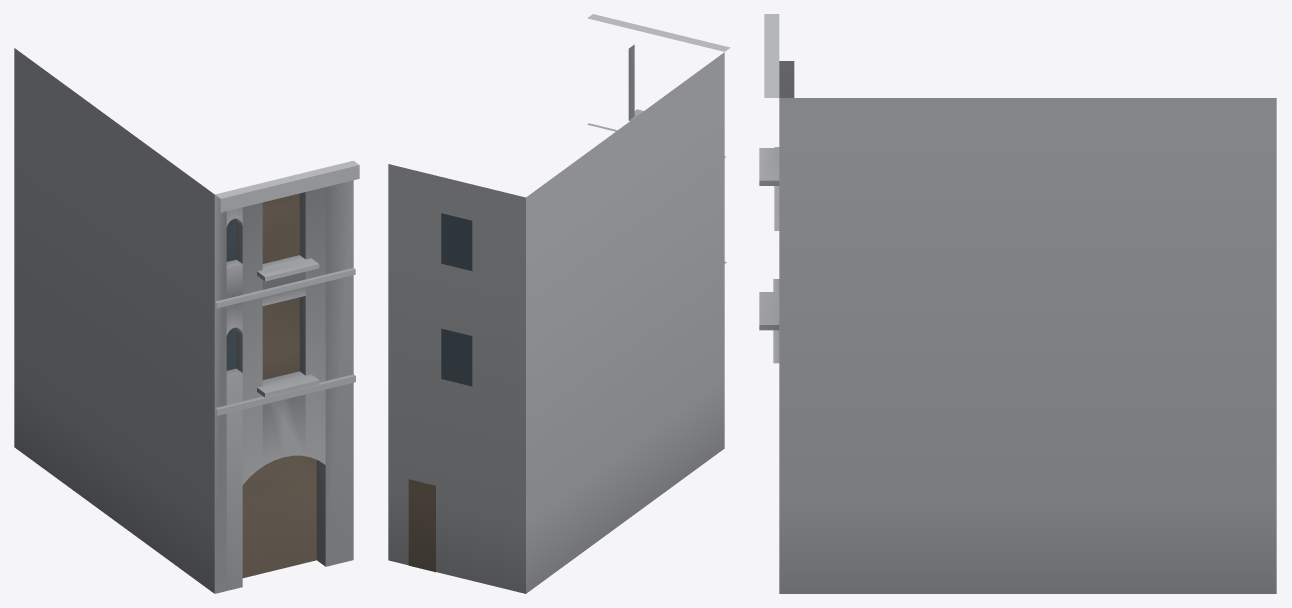
The model's file is sg_house_hoist.glb.
3 renders of one model, left to right at view 1: azimuth 30°, elevation 25°; view 2: azimuth 150°, elevation 25°; view 3: azimuth 270°, elevation 25°, orthographic. The views are drawn at different scales.
Visible parts, largest first — view 1: sg_house_hoist_SG_Stone, sg_house_hoist_SG_Joinery, sg_house_hoist_SG_Glass; view 2: sg_house_hoist_SG_Stone, sg_house_hoist_SG_Glass, sg_house_hoist_SG_Joinery; view 3: sg_house_hoist_SG_Stone.
Boxes of the visible parts, x1,y1,x2,y2 form: sg_house_hoist_SG_Stone: (14, 48, 359, 593); sg_house_hoist_SG_Joinery: (242, 193, 316, 578); sg_house_hoist_SG_Glass: (226, 218, 236, 370); sg_house_hoist_SG_Stone: (388, 14, 730, 593); sg_house_hoist_SG_Glass: (441, 213, 472, 386); sg_house_hoist_SG_Joinery: (408, 479, 435, 572); sg_house_hoist_SG_Stone: (759, 14, 1276, 593).
Bounding box in the file's own units: 4 × 11 × 10.42.
